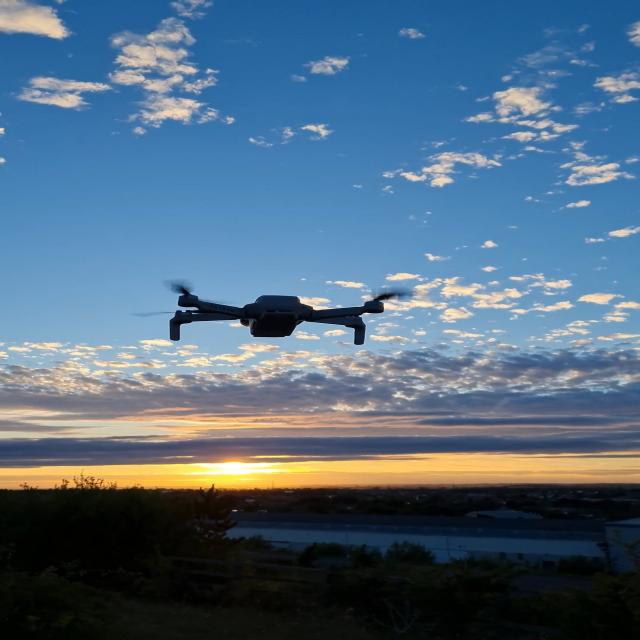Drone: (152, 273, 472, 352)
